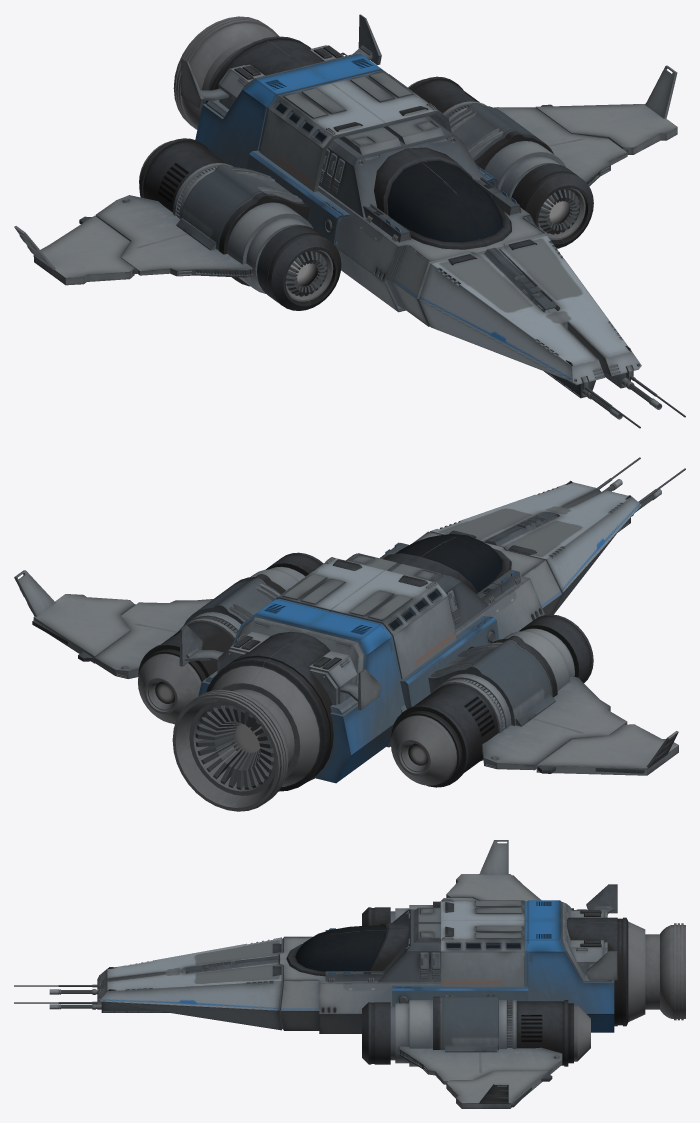
Rendered from SpaceShip.obj.
The picture shows the model from 3 angles, top to bottom: view 1: azimuth 30°, elevation 25°; view 2: azimuth 150°, elevation 25°; view 3: azimuth 270°, elevation 25°; orthographic projection. The views are drawn at different scales.
Visible parts, largest first — view 1: Cube, Cylinder.010; view 2: Cube, Cylinder.010; view 3: Cube, Cylinder.010.
Boxes of the visible parts, x1=… form: Cube: x1=33, y1=14, x2=685, y2=428; Cylinder.010: x1=14, y1=65, x2=677, y2=296; Cube: x1=32, y1=457, x2=685, y2=811; Cylinder.010: x1=14, y1=570, x2=678, y2=789; Cube: x1=14, y1=875, x2=685, y2=1107; Cylinder.010: x1=446, y1=840, x2=548, y2=1108.
Size of the model in its own units: 50.62 by 10.16 by 58.44.
